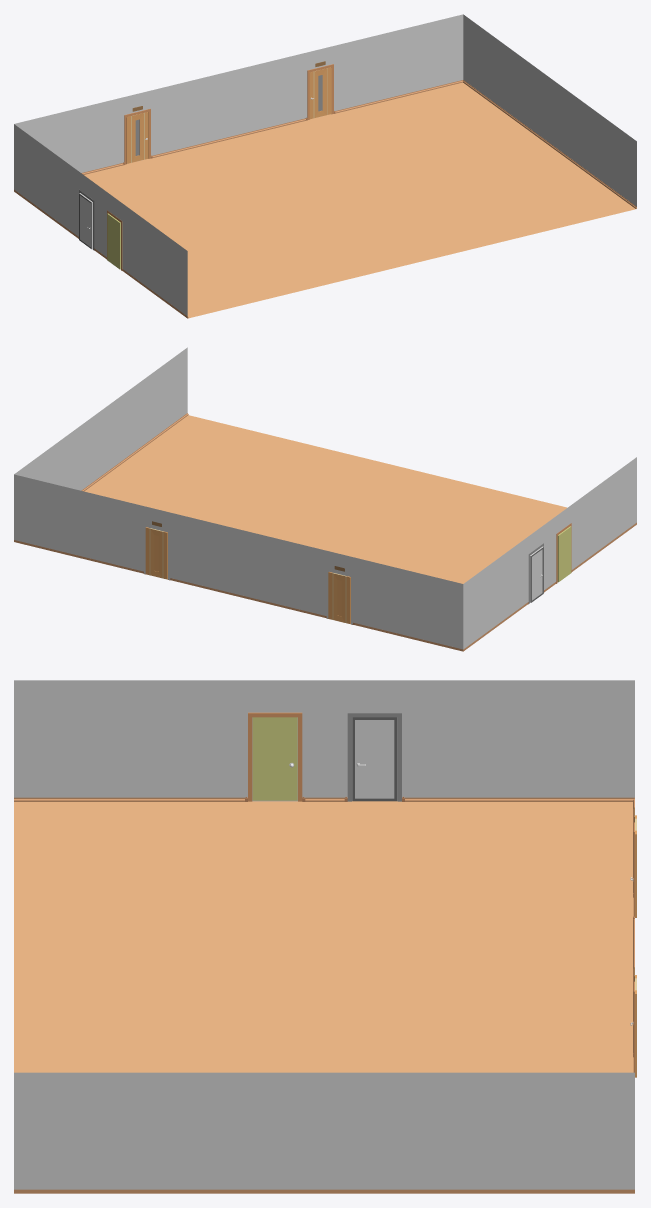
File: MainRoom.fbx
The picture shows the model from 3 angles, top to bottom: view 1: azimuth 30°, elevation 25°; view 2: azimuth 150°, elevation 25°; view 3: azimuth 270°, elevation 25°; orthographic projection. The views are drawn at different scales.
Visible parts, largest first — view 1: Main Room Floor, Main Room Floor.001, Trimming, Breakroom Door, Office Door, Greenhouse Door, Coldroom Door (Seperate); view 2: Main Room Floor.001, Main Room Floor, Trimming, Breakroom Door, Office Door, Greenhouse Door, Coldroom Door (Seperate); view 3: Main Room Floor, Main Room Floor.001, Trimming, Greenhouse Door, Coldroom Door (Seperate), Coldroom Door.
Boxes of the visible parts, x1=… form: Main Room Floor: x1=84, y1=82, x2=635, y2=318; Main Room Floor.001: x1=14, y1=14, x2=636, y2=316; Trimming: x1=14, y1=80, x2=636, y2=318; Breakroom Door: x1=307, y1=64, x2=333, y2=119; Office Door: x1=124, y1=108, x2=150, y2=164; Greenhouse Door: x1=107, y1=210, x2=122, y2=270; Coldroom Door (Seperate): x1=79, y1=193, x2=92, y2=249; Main Room Floor.001: x1=14, y1=347, x2=636, y2=649; Main Room Floor: x1=84, y1=415, x2=566, y2=583; Trimming: x1=14, y1=413, x2=636, y2=651; Breakroom Door: x1=144, y1=527, x2=169, y2=580; Office Door: x1=327, y1=572, x2=352, y2=624; Greenhouse Door: x1=556, y1=523, x2=571, y2=583; Coldroom Door (Seperate): x1=530, y1=546, x2=543, y2=602; Main Room Floor: x1=14, y1=801, x2=633, y2=1072; Main Room Floor.001: x1=14, y1=680, x2=634, y2=1189; Trimming: x1=14, y1=796, x2=634, y2=1193; Greenhouse Door: x1=248, y1=712, x2=302, y2=801; Coldroom Door (Seperate): x1=352, y1=717, x2=397, y2=801; Coldroom Door: x1=347, y1=712, x2=401, y2=801.
Bounding box in the file's own units: 4197 × 603 × 2803.
